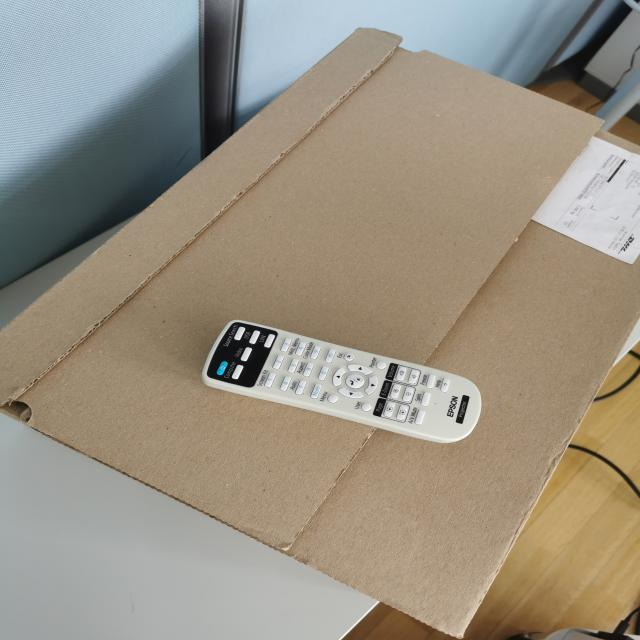remote: (192, 308, 496, 452)
